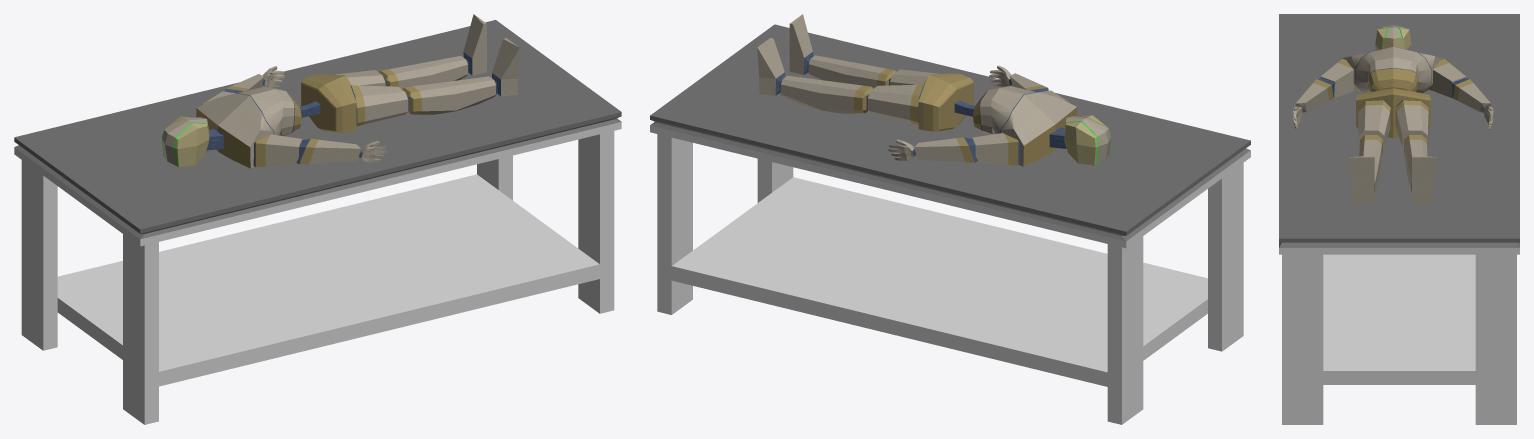
The model's file is table avec robot.glb.
3 renders of one model, left to right at view 1: azimuth 30°, elevation 25°; view 2: azimuth 150°, elevation 25°; view 3: azimuth 270°, elevation 25°, orthographic. The views are drawn at different scales.
Parts seen in each view (by area): view 1: Cube.010, Cube.011; view 2: Cube.010, Cube.011; view 3: Cube.010, Cube.011.
Boxes of the visible parts, bbox=[...] form: Cube.010: bbox=[14, 20, 621, 424]; Cube.011: bbox=[162, 14, 519, 168]; Cube.010: bbox=[650, 24, 1250, 424]; Cube.011: bbox=[757, 14, 1111, 166]; Cube.010: bbox=[1279, 14, 1519, 424]; Cube.011: bbox=[1293, 25, 1493, 203].
Bounding box in the file's own units: 2.6 × 1.3 × 1.18.
9 materials, 2 textured.
